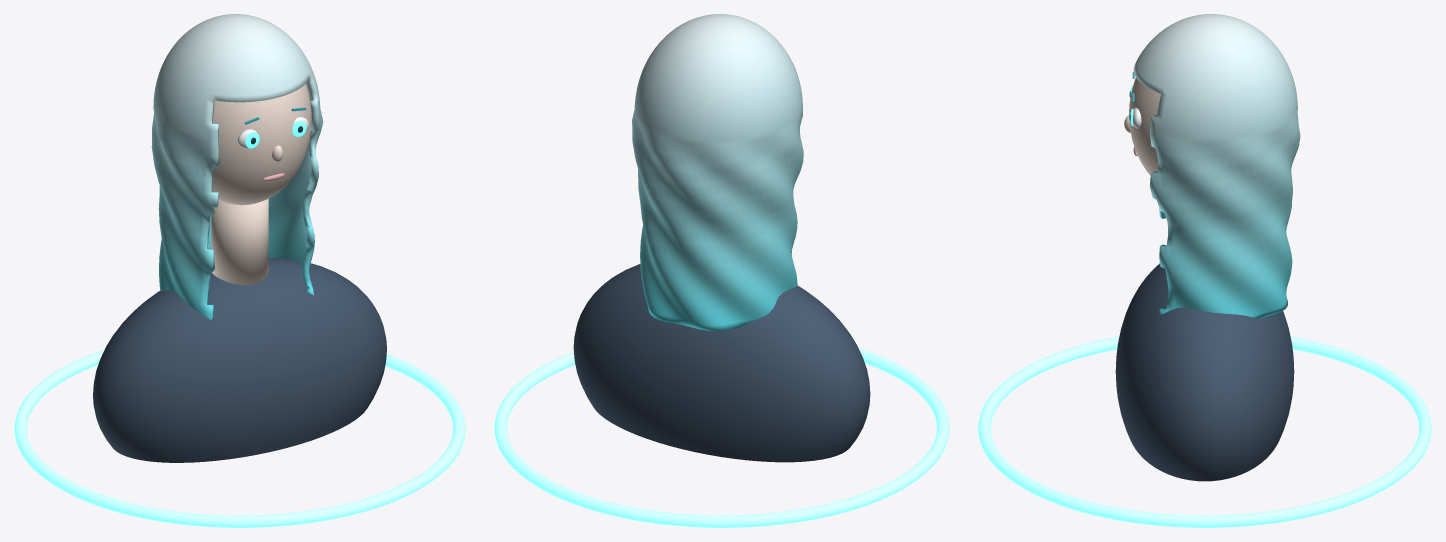
The model's file is kyra-bust.glb.
3 views of the same model, side by side, from view 1: azimuth 30°, elevation 25°; view 2: azimuth 150°, elevation 25°; view 3: azimuth 270°, elevation 25° (orthographic).
Parts seen in each view (by area): view 1: Body, HairShell, Ring, Face, Neck; view 2: HairShell, Body, Ring; view 3: HairShell, Body, Ring, Face.
Boxes of the visible parts, <box> form: Body: <box>93,258,386,462</box>; HairShell: <box>151,14,323,319</box>; Ring: <box>14,349,465,527</box>; Face: <box>212,84,311,205</box>; Neck: <box>211,199,268,285</box>; HairShell: <box>632,14,803,331</box>; Body: <box>573,264,870,462</box>; Ring: <box>494,348,949,527</box>; HairShell: <box>1133,14,1300,319</box>; Body: <box>1115,264,1294,481</box>; Ring: <box>978,336,1431,527</box>; Face: <box>1129,78,1161,175</box>.
Size of the model in its own units: 0.864 by 0.869 by 0.864.
